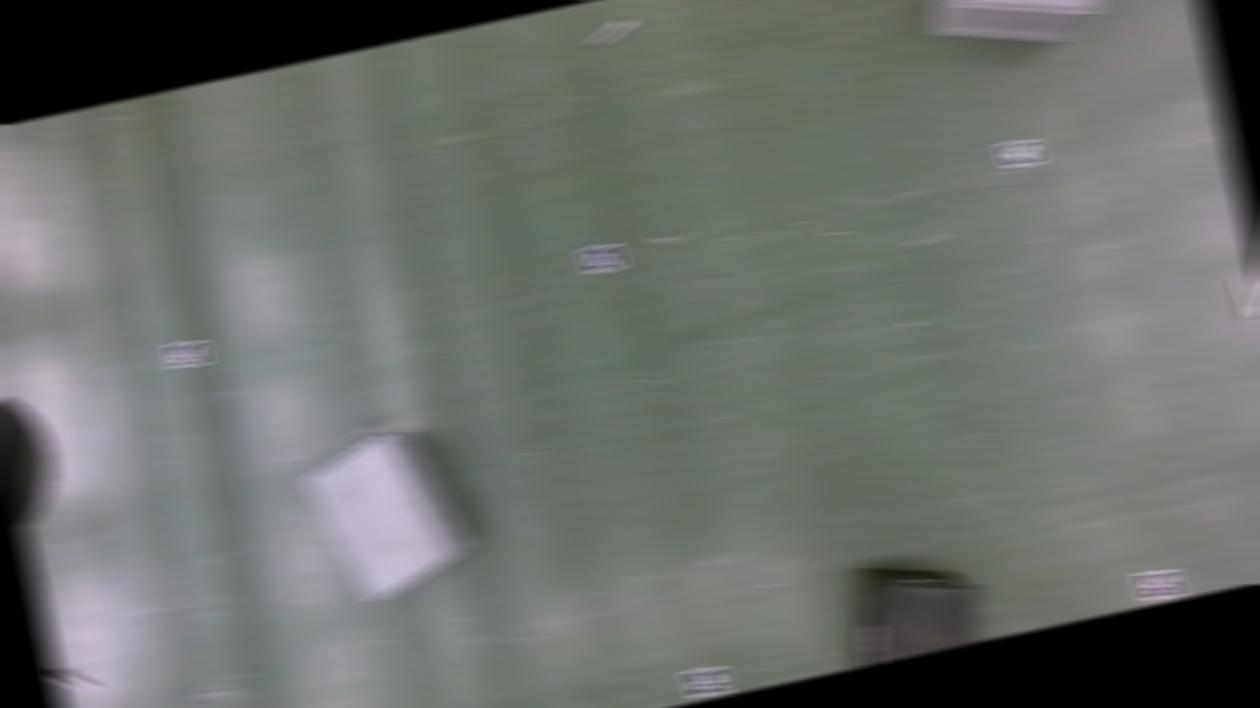probes: (48, 660, 98, 696), (583, 16, 635, 46), (1232, 271, 1260, 320)
rako: (292, 422, 479, 616), (830, 544, 994, 668), (902, 0, 1126, 71)
